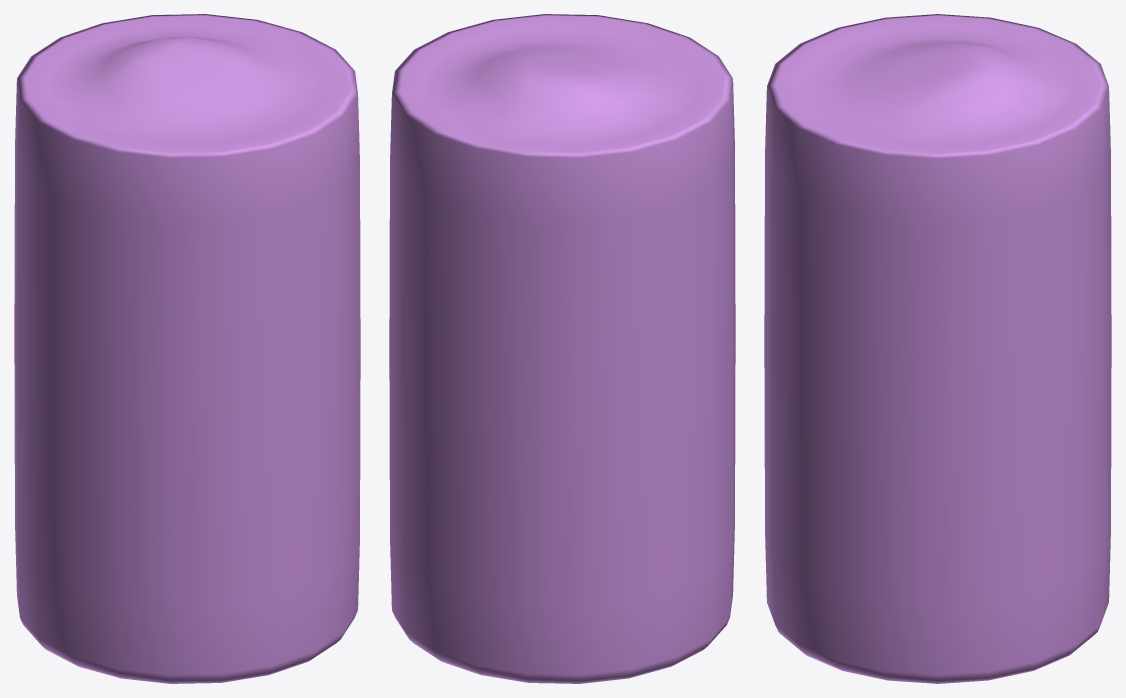
File: uploads_files_1923420_Salt+Shakers_Salt3.FBX
3 renders of one model, left to right at view 1: azimuth 30°, elevation 25°; view 2: azimuth 150°, elevation 25°; view 3: azimuth 270°, elevation 25°, orthographic.
Visible parts, largest first — view 1: uploads_files_1923420_Salt+Shakers_Salt3; view 2: uploads_files_1923420_Salt+Shakers_Salt3; view 3: uploads_files_1923420_Salt+Shakers_Salt3.
Boxes of the visible parts, x1,y1,x2,y2 form: uploads_files_1923420_Salt+Shakers_Salt3: (14, 14, 360, 683); uploads_files_1923420_Salt+Shakers_Salt3: (389, 14, 735, 683); uploads_files_1923420_Salt+Shakers_Salt3: (764, 14, 1111, 683).
Size of what is drawn, in the model's own units: 1.2 by 1.2 by 2.13.
